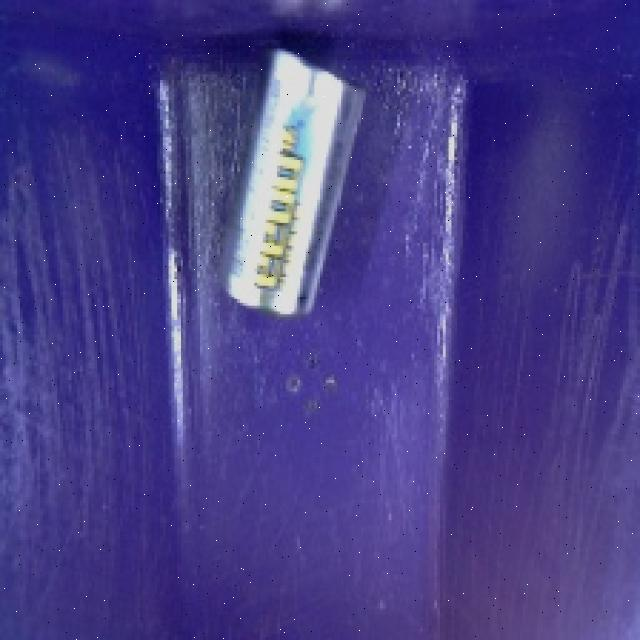battery: (203, 30, 376, 332)
